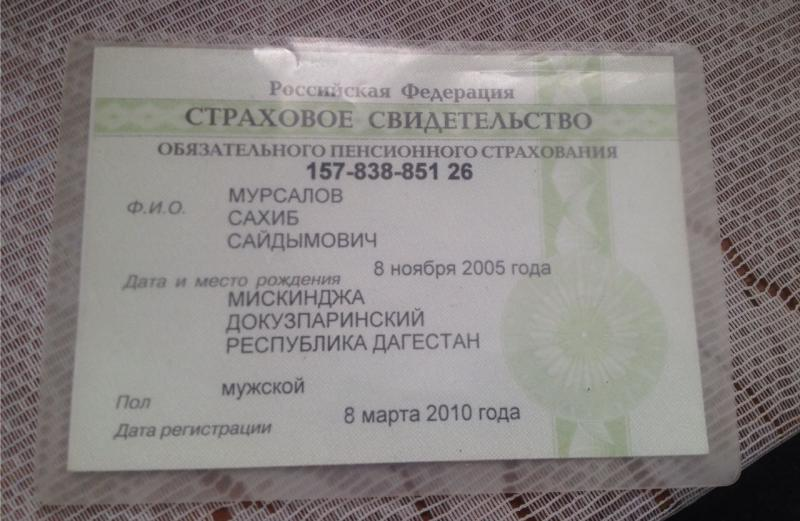text: (225, 286, 483, 358), (340, 398, 526, 427), (373, 256, 552, 281), (302, 158, 477, 182), (224, 226, 380, 250), (226, 182, 345, 205), (213, 374, 307, 401), (225, 207, 301, 228)
